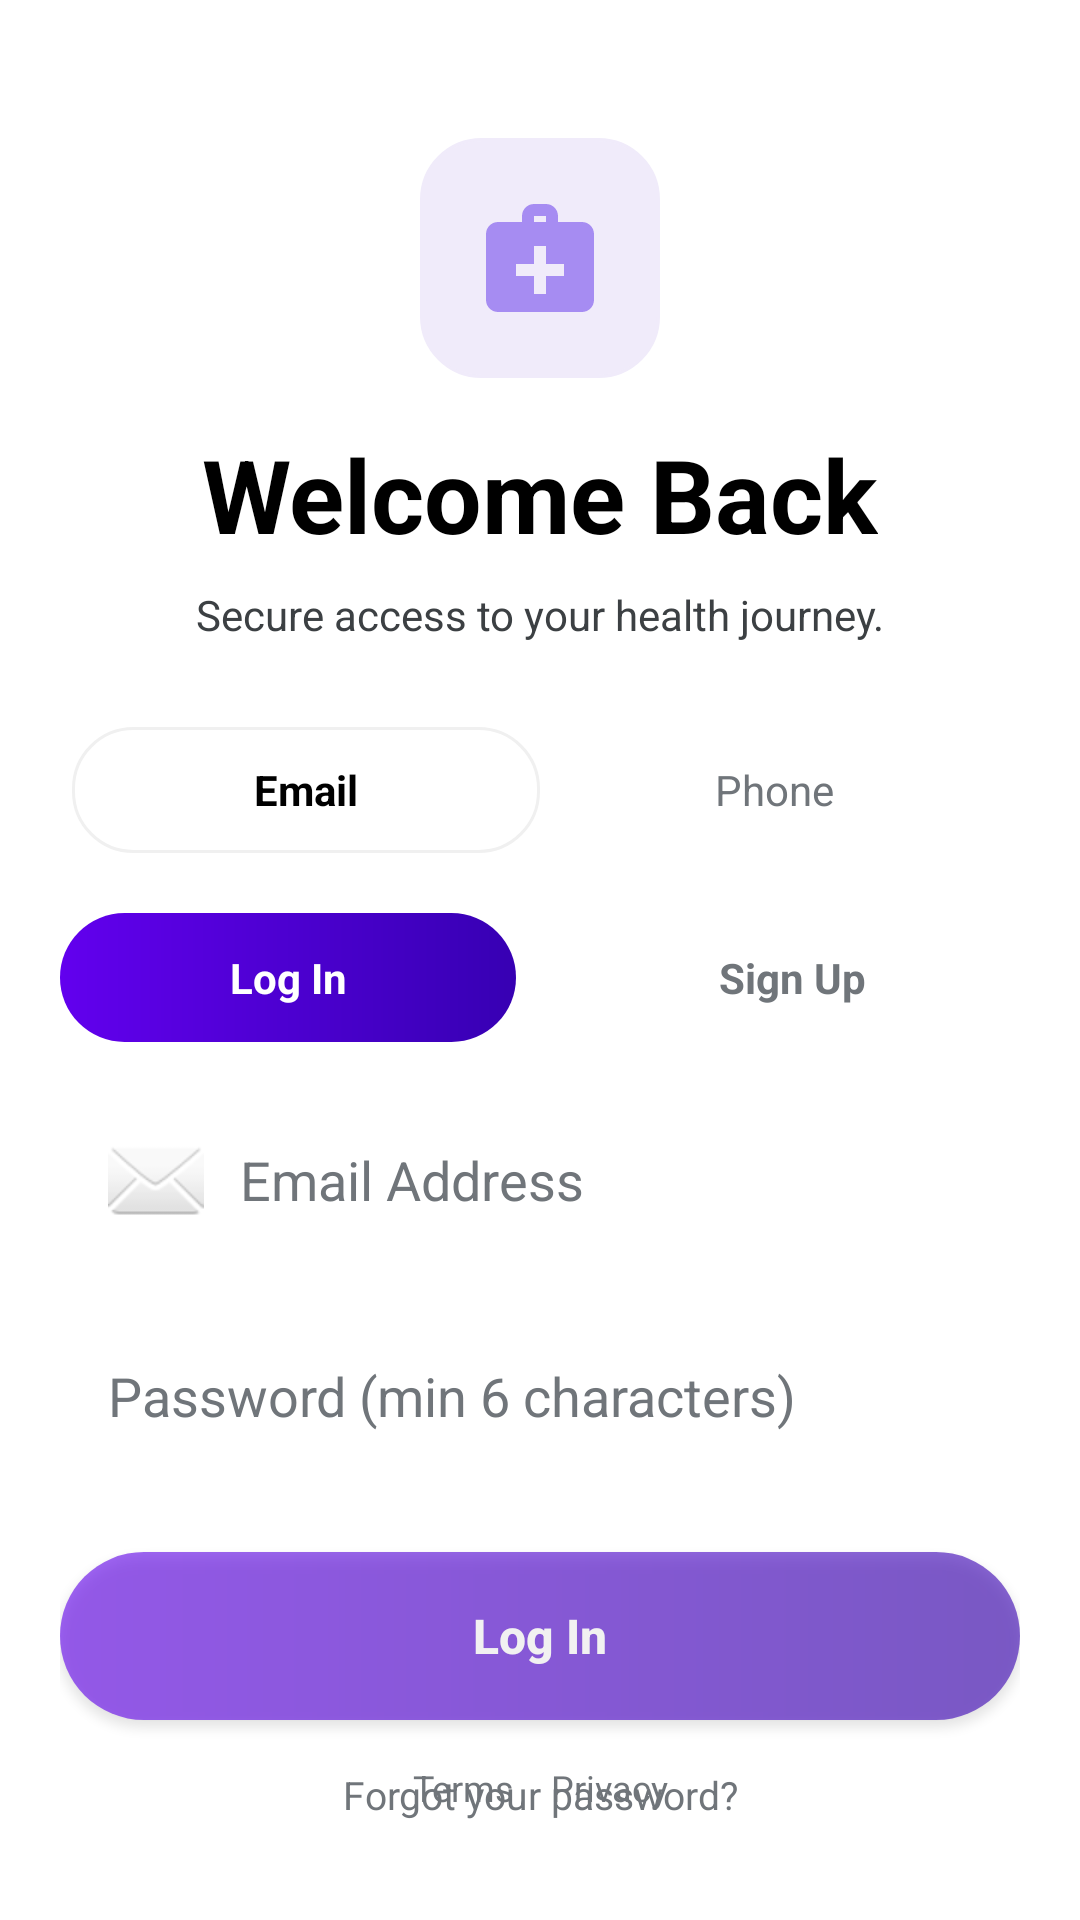

Screen size 1080*1920. Icon name, then its box in pixels as (x1, y1, x2, y2):
medical bag: (486, 204, 594, 312)
